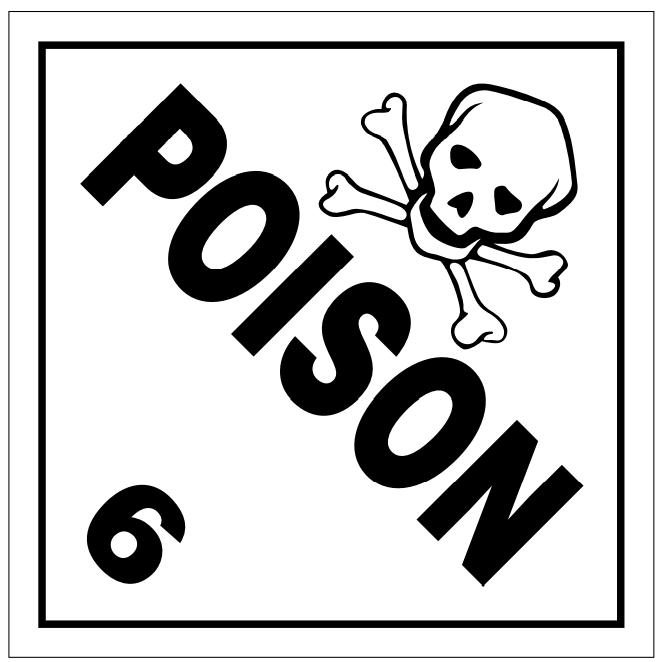poison: (1, 1, 658, 662)
